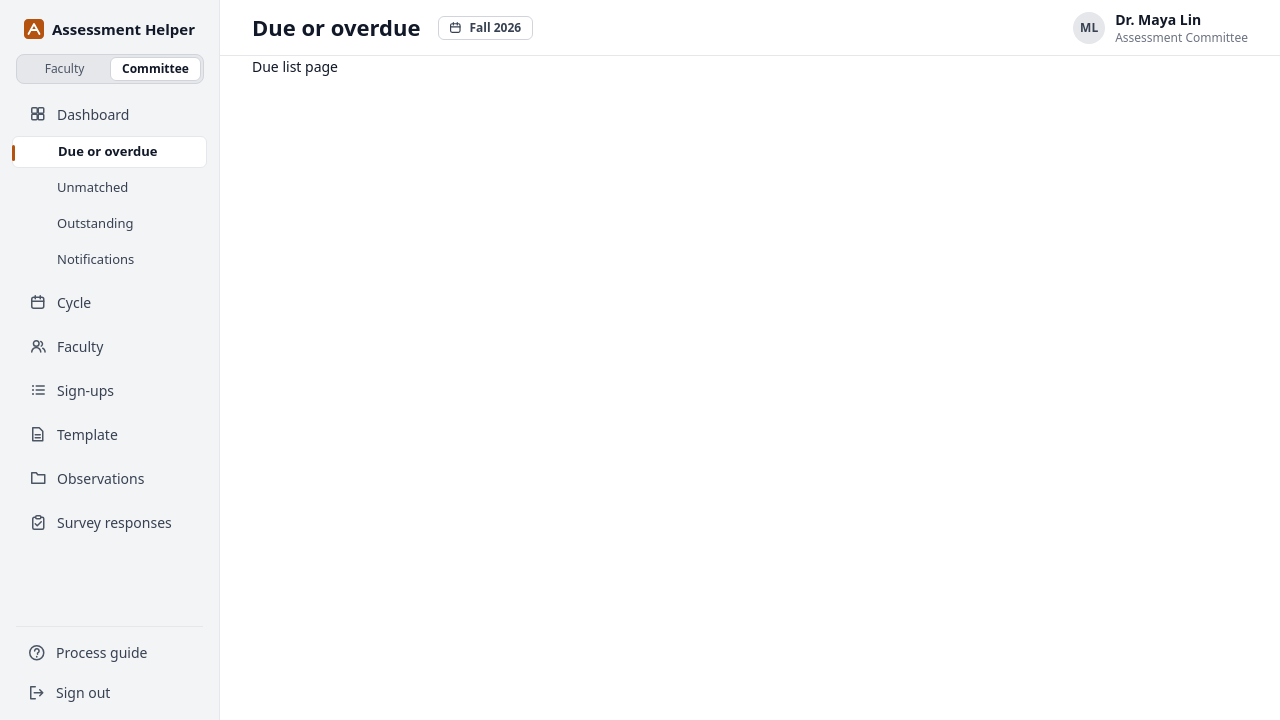
Scenario: Dashboard pages in the sidebar › highlights only its own row on the other committee pages, not Dashboard
Expected: the text "Due list page" is shown, x1=252 y1=57 x2=338 y2=76
Click the link "Cycle": (61, 302) x1=31 y1=292 x2=91 y2=312
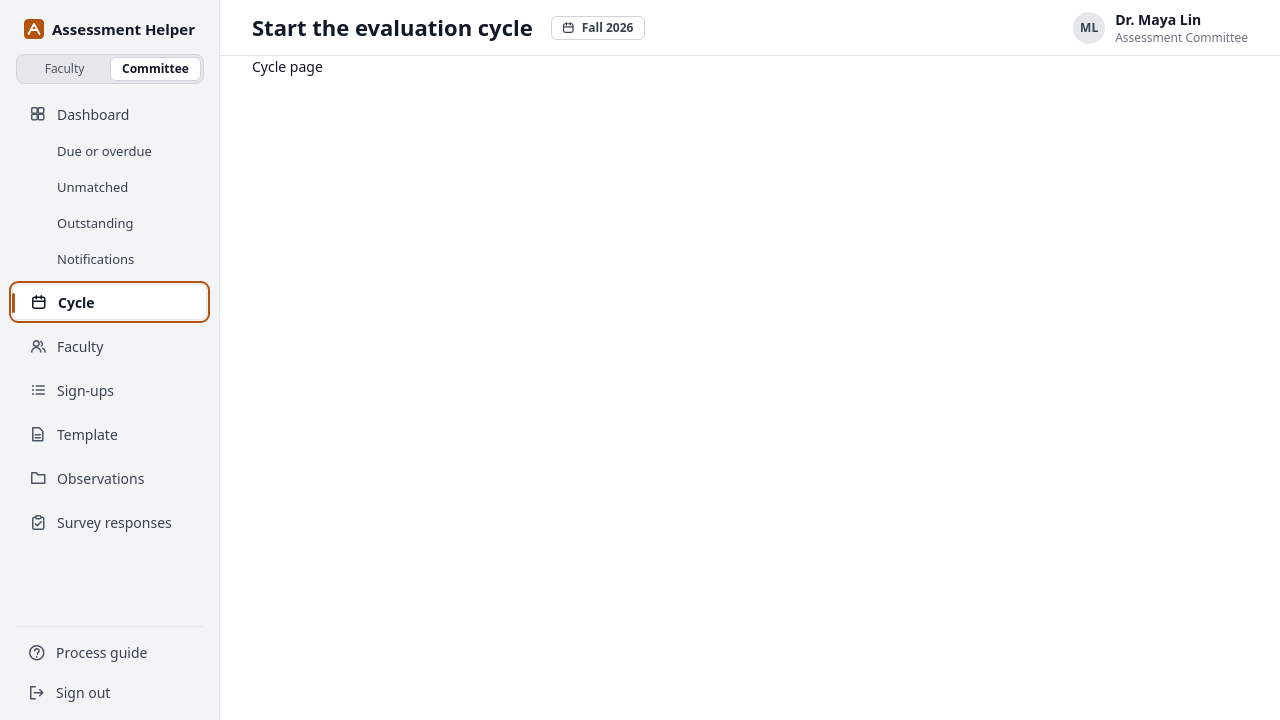
Result: the text "Cycle page" is shown at x1=252 y1=57 x2=323 y2=76
Click the link "Faculty": (67, 346) x1=30 y1=336 x2=103 y2=356
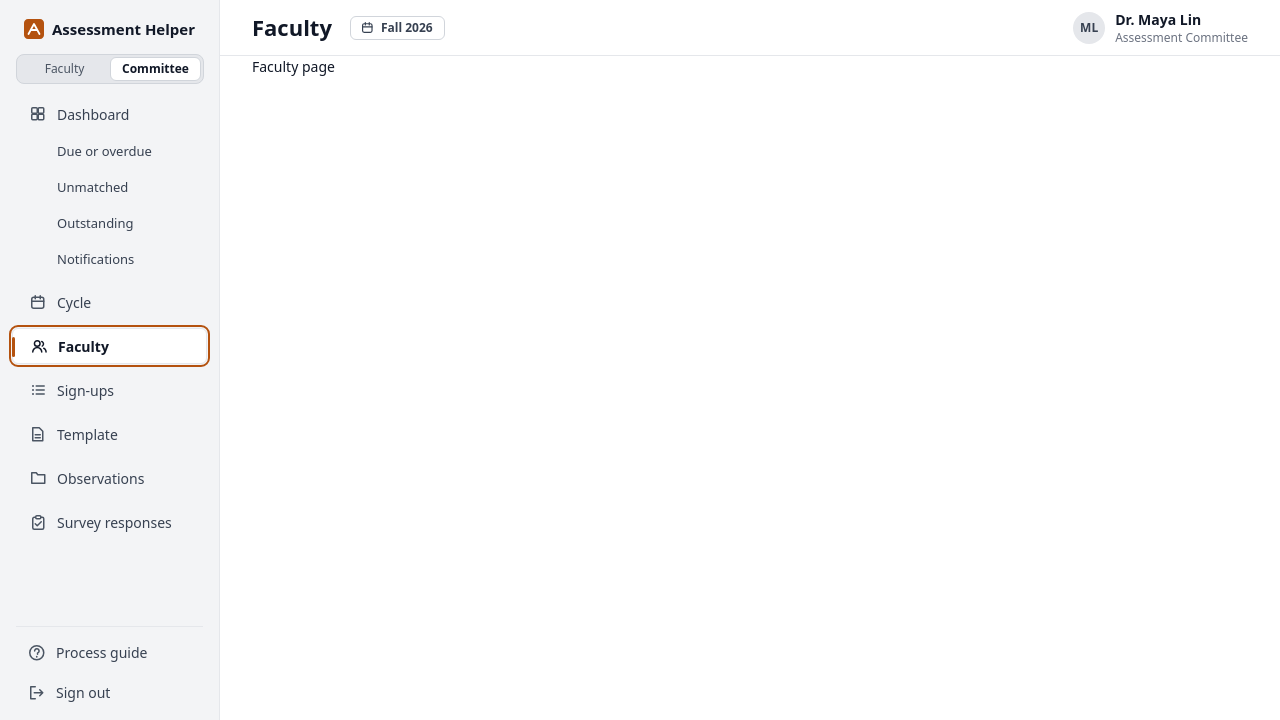
Result: the text "Faculty page" is shown at x1=252 y1=57 x2=335 y2=76
Click the link "Sign-ups": (73, 390) x1=32 y1=380 x2=114 y2=400
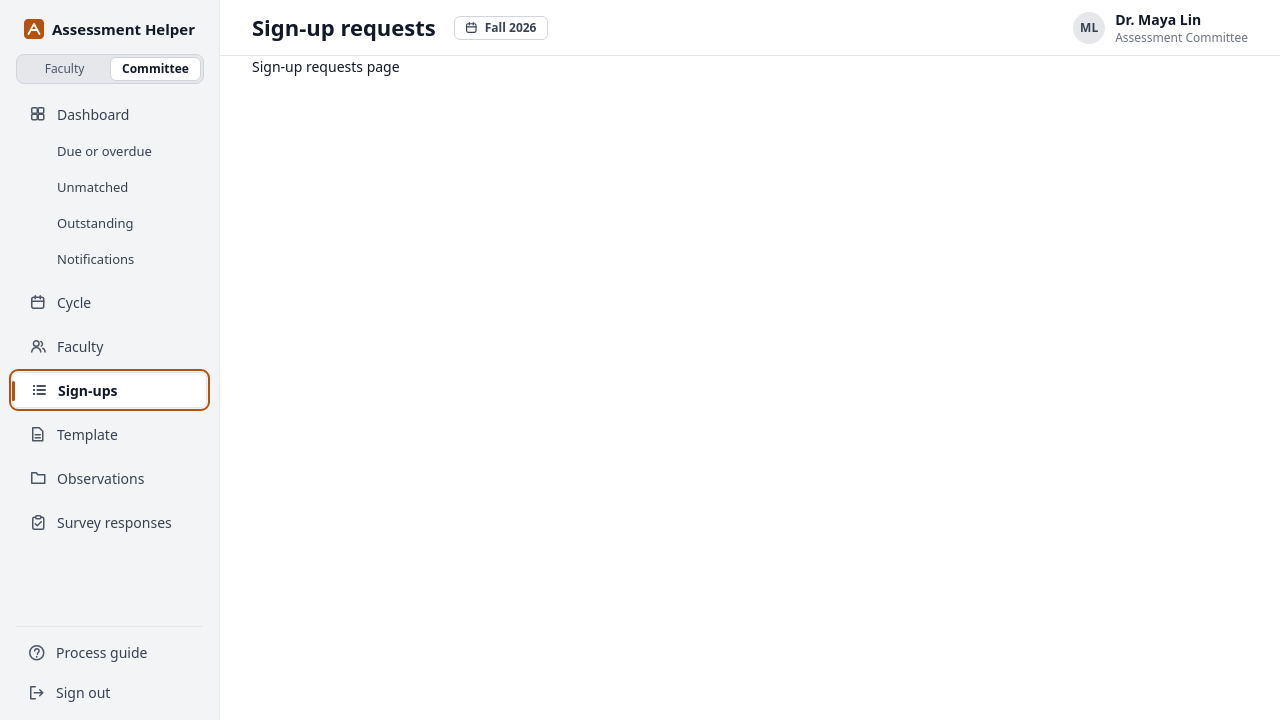
Result: the text "Sign-up requests page" is shown at x1=252 y1=57 x2=400 y2=76
Click the link "Survey responses": (102, 522) x1=32 y1=512 x2=172 y2=532
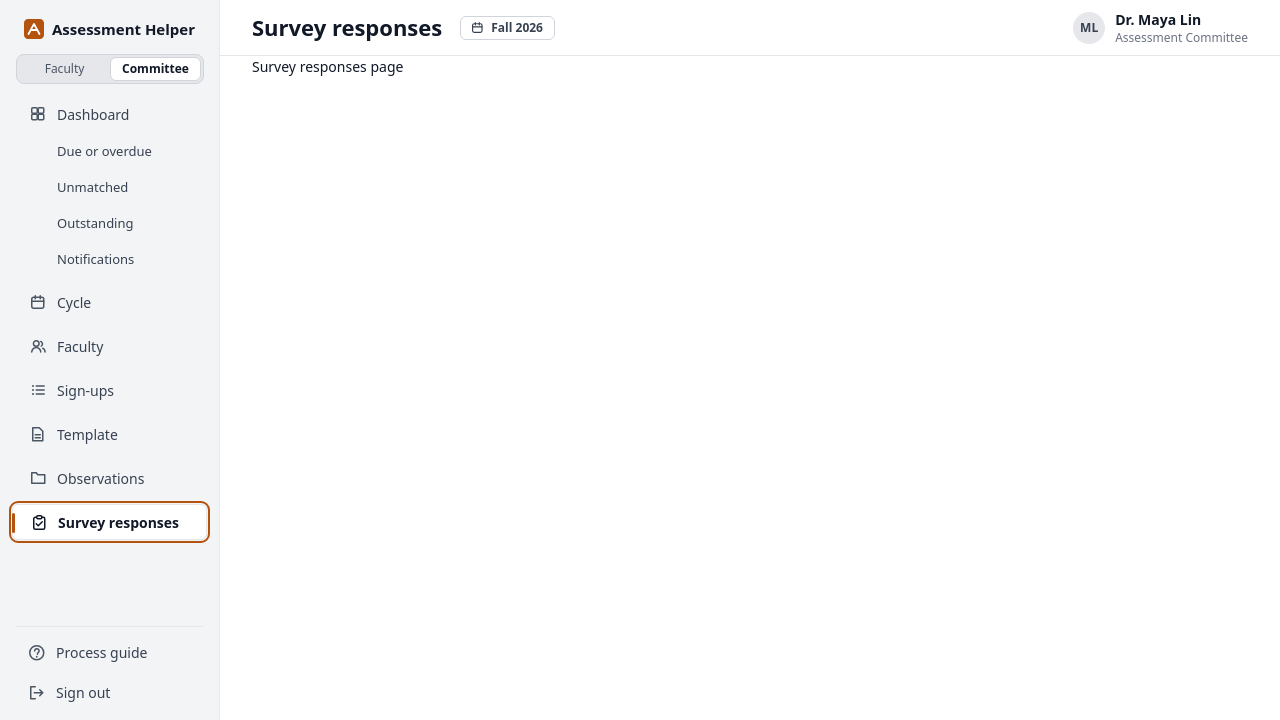
Result: the text "Survey responses page" is shown at x1=252 y1=57 x2=403 y2=76
